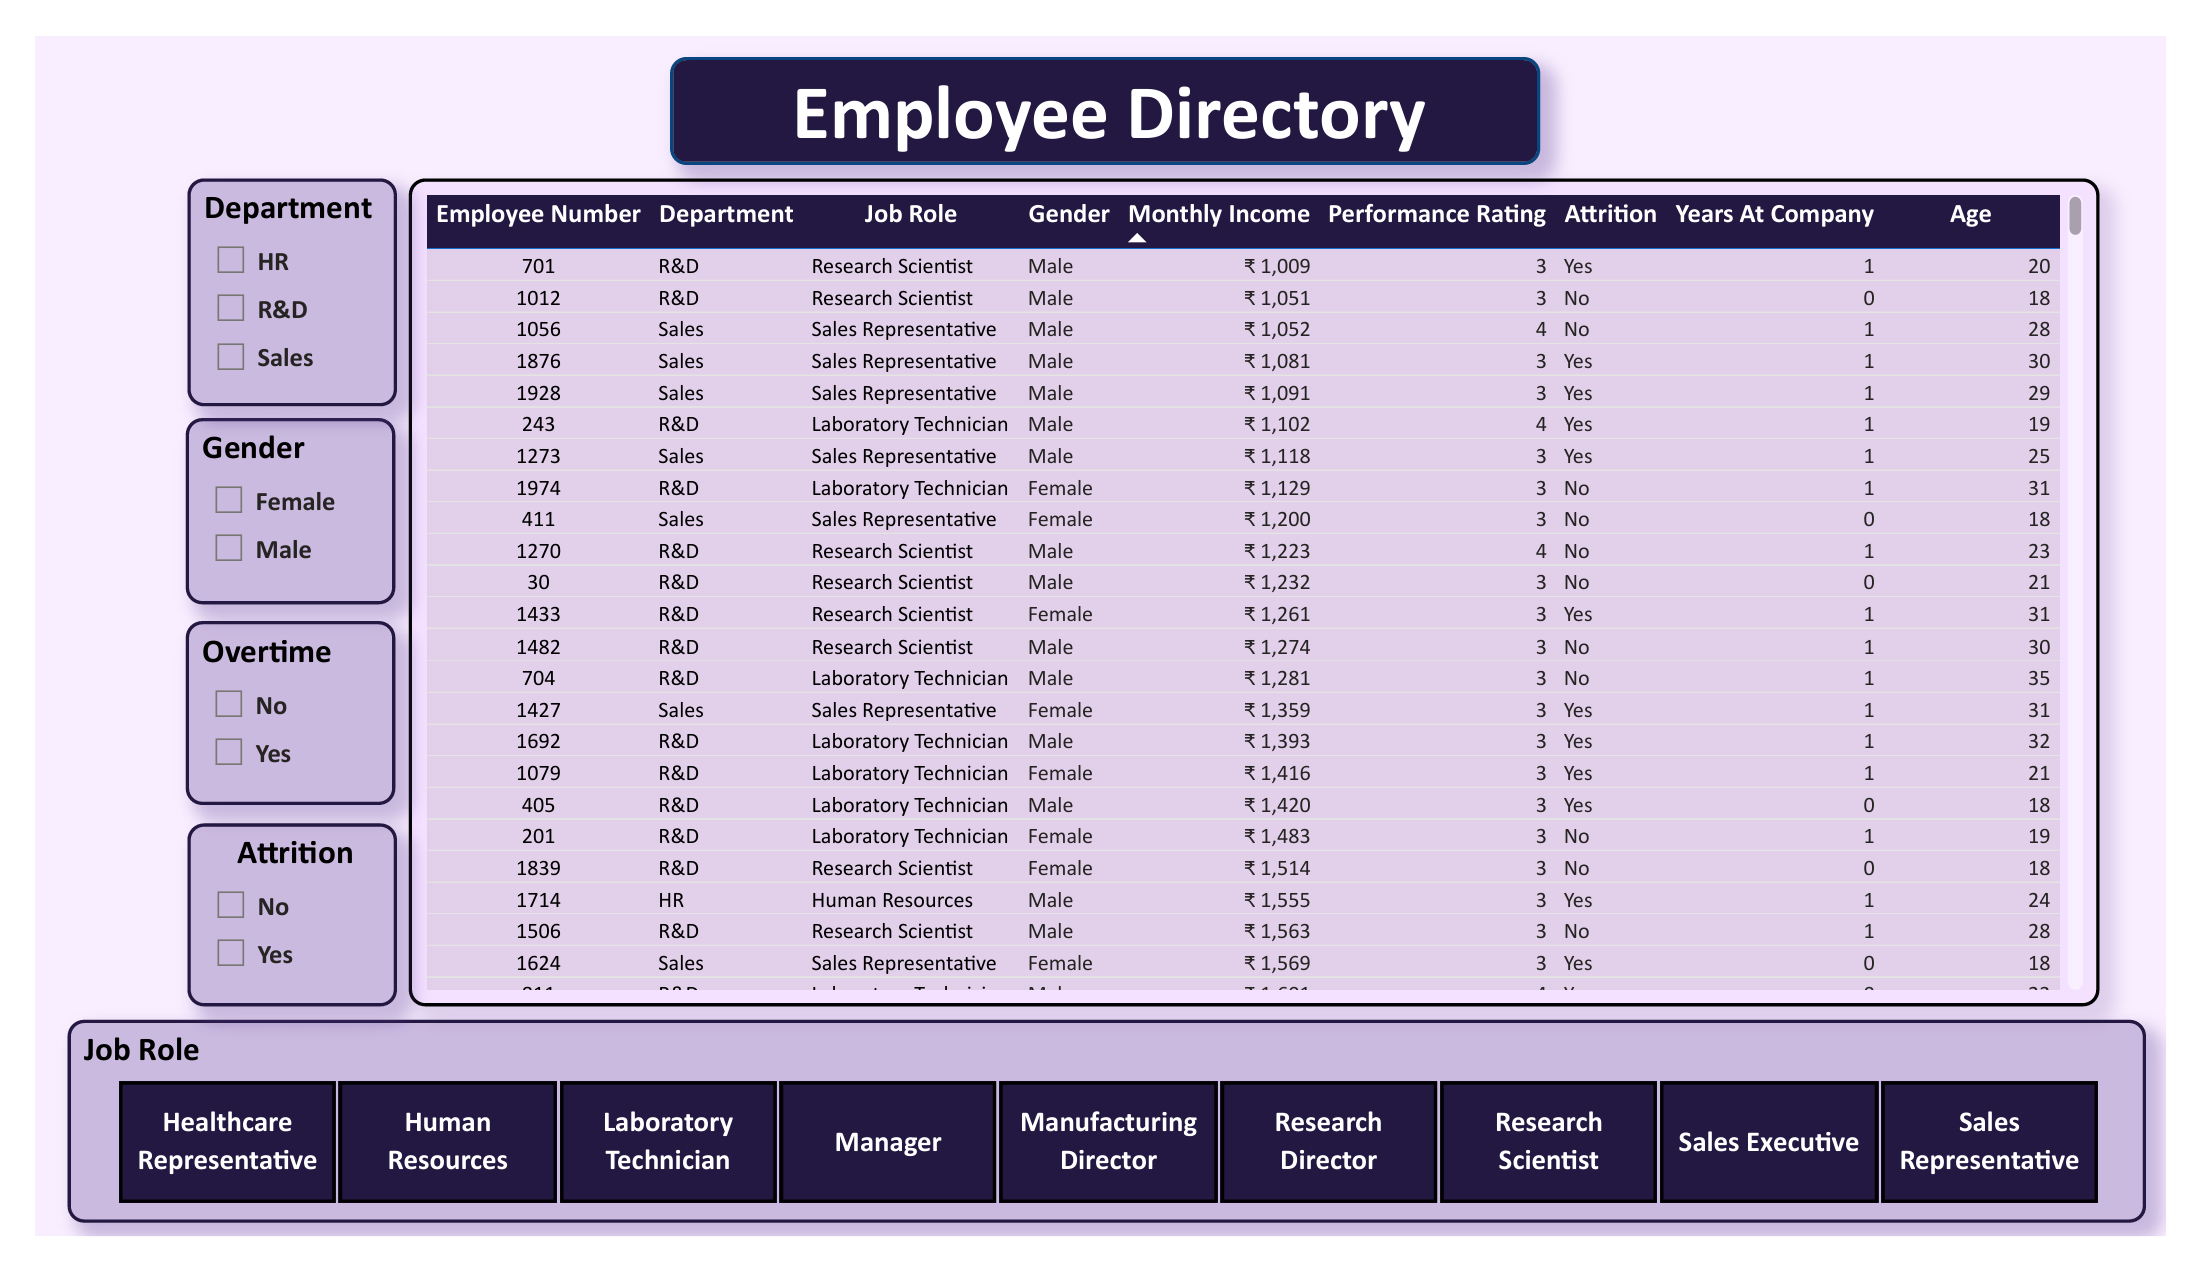

The dashboard page shown, as its layout file describes it:
{"tool":"powerbi","page":{"name":"Employee Directory","canvas":[1280,720],"ordinal":3},"visuals":[{"type":"textbox","title":"Employee Directory","box":[381.1,11.7,522.7,65.5],"z":0},{"type":"tableEx","fields":{"Values":["HR data.Employee Number","HR data.Department","HR data.Job Role","HR data.Gender","HR data.Monthly Income","HR data.Performance Rating","HR data.Attrition","HR data.Years At Company","HR data.Age"]},"box":[216,85,1046,497],"z":1000},{"type":"slicer","title":"Gender","fields":{"Values":["HR data.Gender"]},"box":[78,232,126,112],"z":2000},{"type":"slicer","title":"Department","fields":{"Values":["HR data.Department"]},"box":[78,85,126,137],"z":3000},{"type":"slicer","title":"Job Role","fields":{"Values":["HR data.Job Role"]},"box":[18.6,589.9,1249.5,121.7],"z":4000},{"type":"slicer","title":"Overtime","fields":{"Values":["HR data.Over Time"]},"box":[78,353,126,110],"z":5000},{"type":"slicer","title":"Attrition","fields":{"Values":["HR data.Attrition"]},"box":[78,472,126,110],"z":6000}]}

Visuals, with their boxes in screenshot pixels (x1, y1, x2, y2), scaled from the page's 1280x720 canvas onto the 2206x1272 screenshot:
"Employee Directory" textbox: {"x1": 657, "y1": 21, "x2": 1558, "y2": 136}
tableEx - HR data.Employee Number x HR data.Department: {"x1": 372, "y1": 150, "x2": 2175, "y2": 1028}
"Gender" slicer: {"x1": 134, "y1": 410, "x2": 352, "y2": 608}
"Department" slicer: {"x1": 134, "y1": 150, "x2": 352, "y2": 392}
"Job Role" slicer: {"x1": 32, "y1": 1042, "x2": 2185, "y2": 1257}
"Overtime" slicer: {"x1": 134, "y1": 624, "x2": 352, "y2": 818}
"Attrition" slicer: {"x1": 134, "y1": 834, "x2": 352, "y2": 1028}
